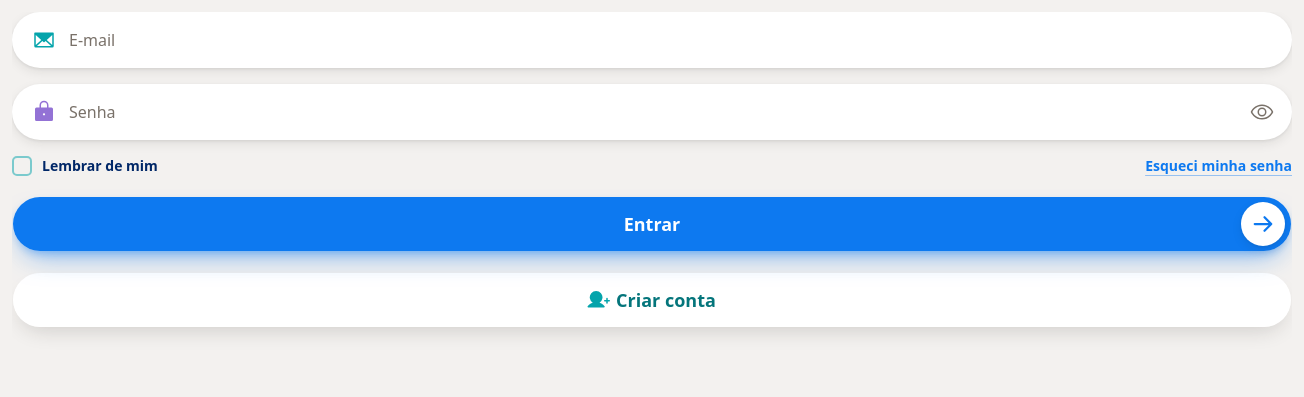
LoginForm › mostra erro de validação para e-mail inválido e senha vazia
The width and height of the screenshot is (1304, 397).
Type "email-invalido" into the field labelled "E-mail" at (652, 40), box [12,12,1292,68]
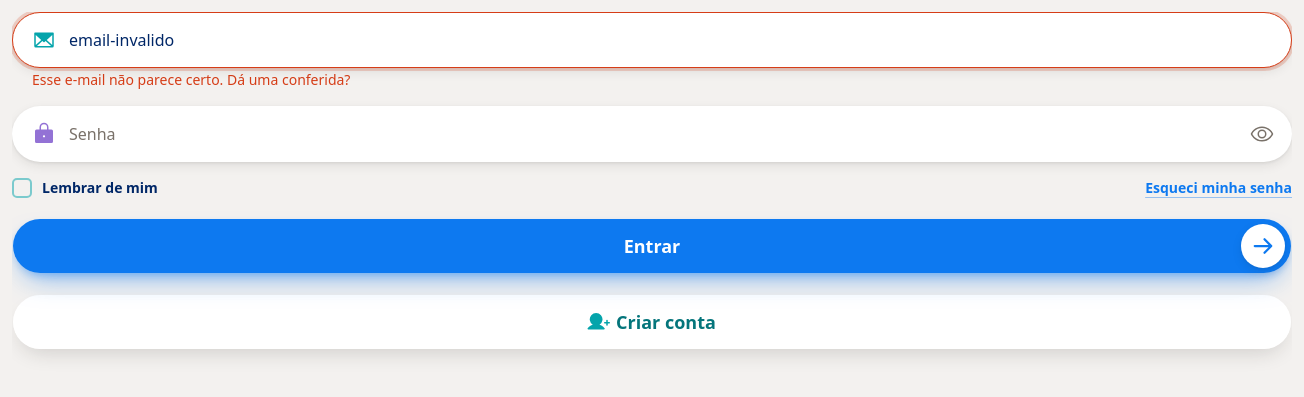
Press Tab
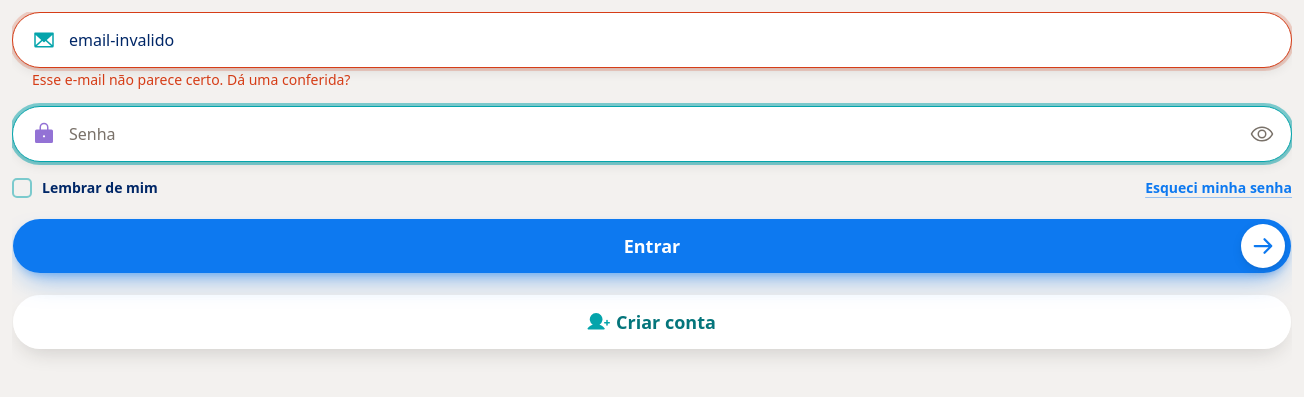
Expected: the text "Esse e-mail não parece certo. Dá uma conferida?" is shown, [32,70,350,89]
Press Tab
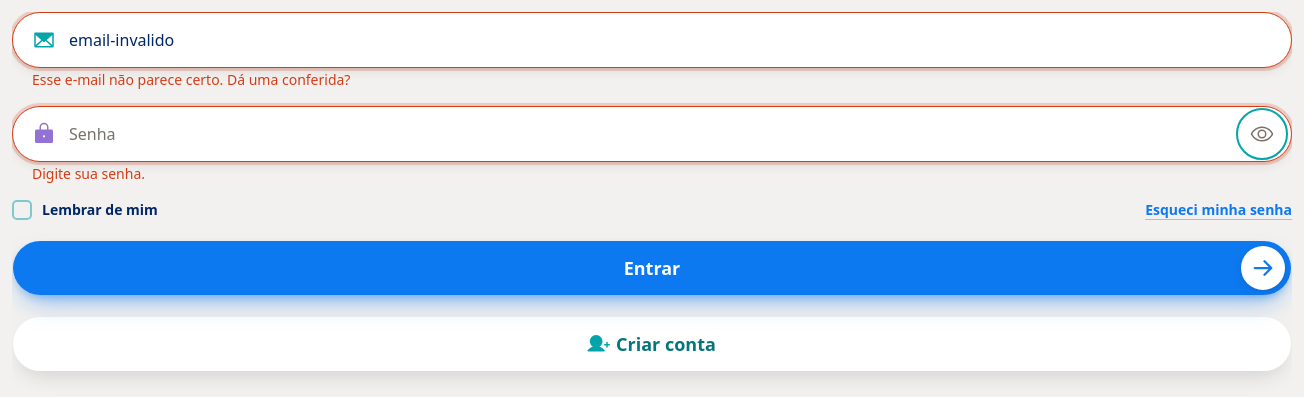
Expected: the text "Digite sua senha." is shown, [32,164,145,183]
